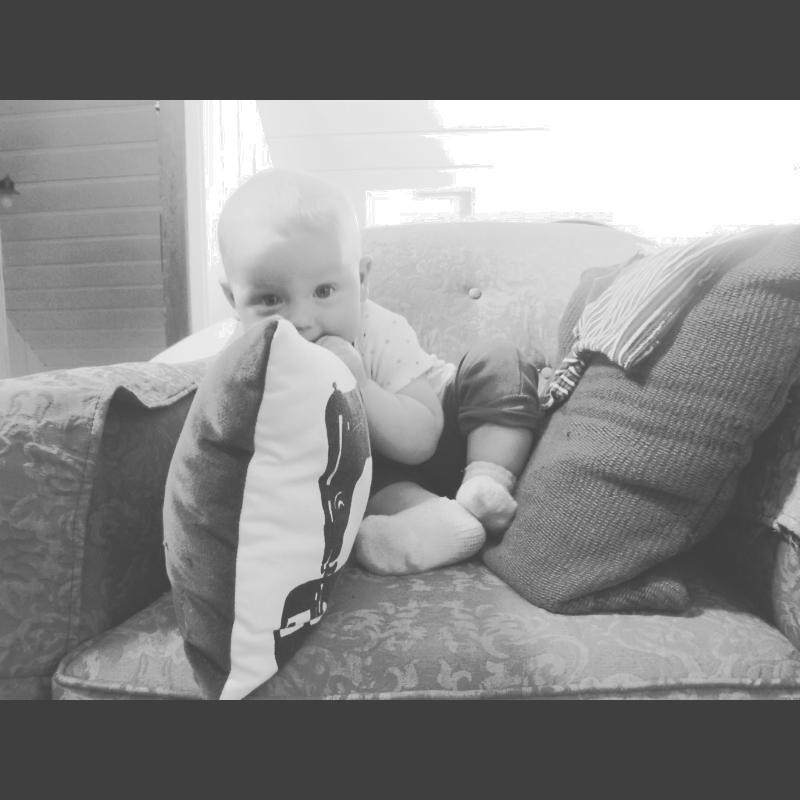pillow: (462, 222, 798, 616), (137, 315, 412, 699)
